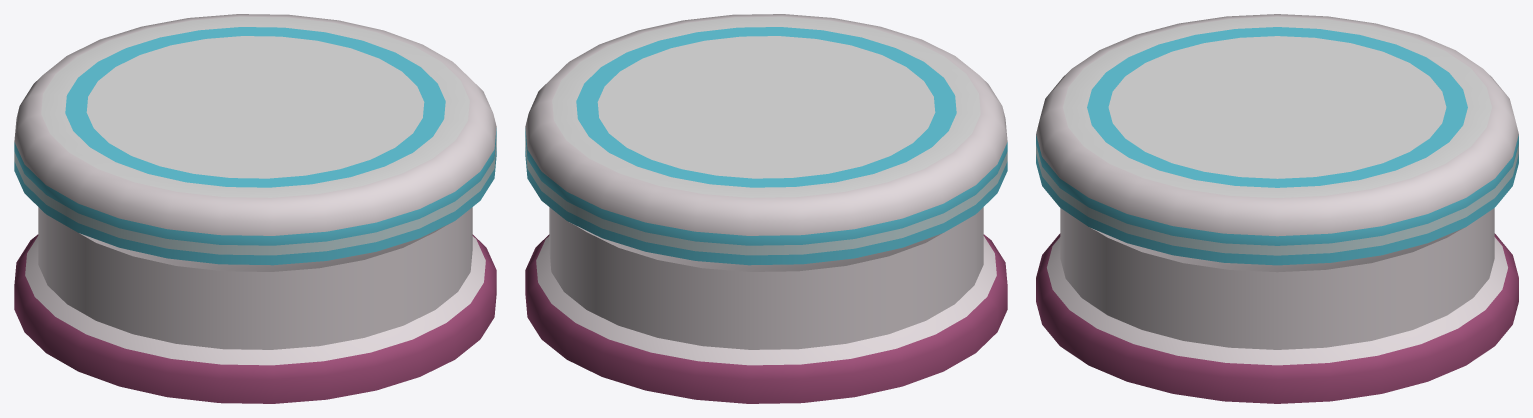
File: block-podium.glb
3 views of the same model, side by side, from view 1: azimuth 30°, elevation 25°; view 2: azimuth 150°, elevation 25°; view 3: azimuth 270°, elevation 25° (orthographic).
Parts seen in each view (by area): view 1: block-podium; view 2: block-podium; view 3: block-podium.
Boxes of the visible parts, left/top/right/bottom form: block-podium: left=14, top=14, right=496, bottom=403; block-podium: left=525, top=14, right=1007, bottom=403; block-podium: left=1036, top=14, right=1518, bottom=403.
Bounding box in the file's own units: 0.9 × 0.4 × 0.9.
